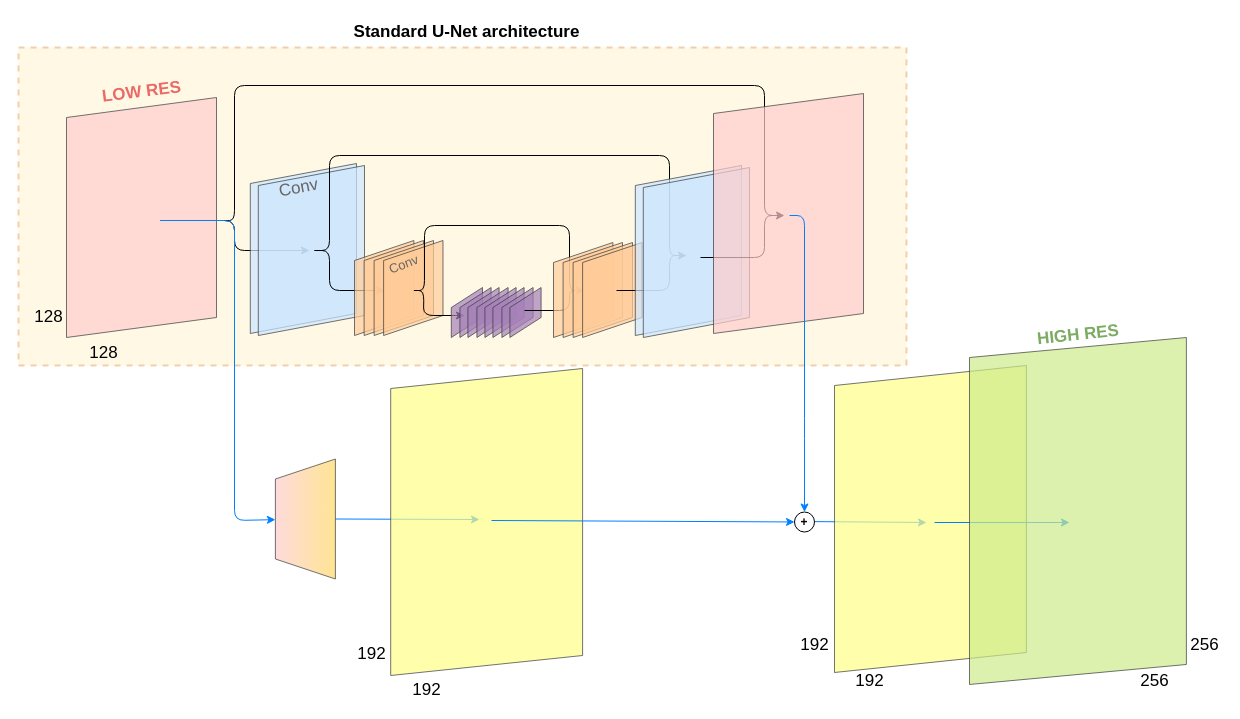
The diagram is 1240 pixels wide and 719 high, and some of its shapes have lost their labels. Each missing label, with the centre of its shape:
"UpConv" goes at (x=930, y=518).
"UPS x1.5" goes at (x=304, y=518).
